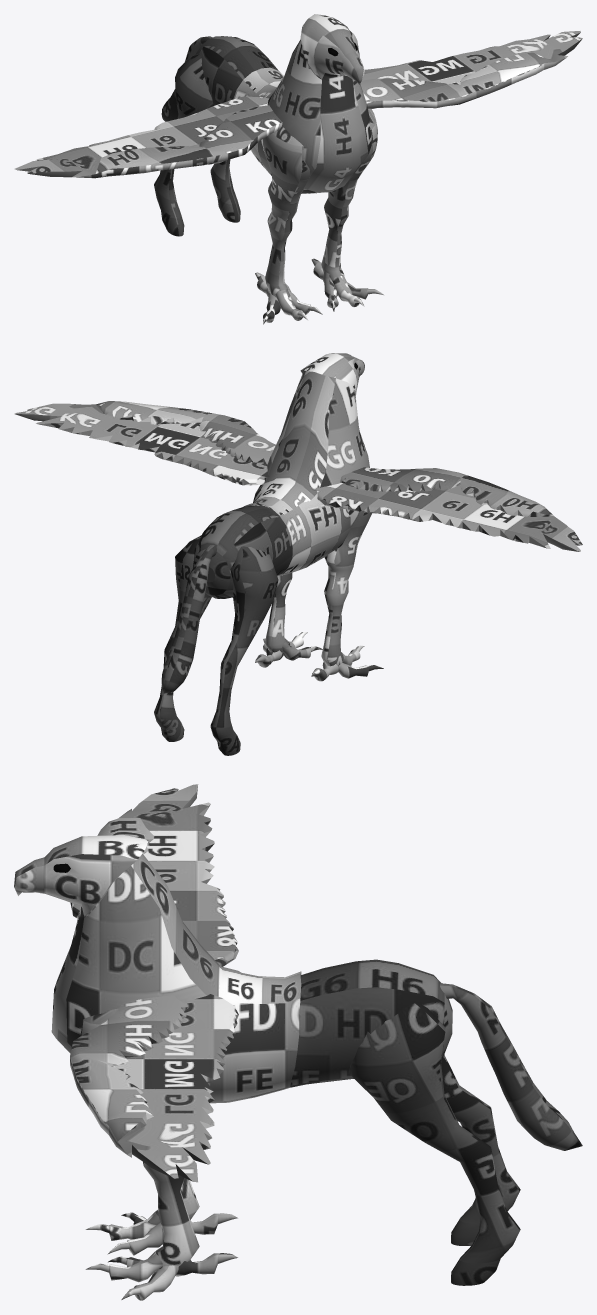
File: HippoGriffUV.fbx
3 views of the same model, one above another, from view 1: azimuth 30°, elevation 25°; view 2: azimuth 150°, elevation 25°; view 3: azimuth 270°, elevation 25° (orthographic). The views are drawn at different scales.
Visible parts, largest first — view 1: Body, L_Wing, R_Wing1, L_Front_Leg, L_Back_Leg, R_Front_Leg, R_Back_Leg, Tail, L_Talon02, R_Talon02; view 2: Body, L_Wing, R_Wing1, L_Back_Leg, Tail, L_Front_Leg, R_Back_Leg, R_Front_Leg; view 3: Body, R_Wing1, R_Back_Leg, L_Wing, Tail, L_Back_Leg, R_Front_Leg, R_Talon02, R_Talon03, L_Talon02, R_Talon04, L_Talon01.
Part boxes in pixels (<box>): Body: <box>195,14,371,193</box>; L_Wing: <box>14,96,282,178</box>; R_Wing1: <box>360,31,582,108</box>; L_Front_Leg: <box>261,126,309,297</box>; L_Back_Leg: <box>154,53,214,236</box>; R_Front_Leg: <box>321,108,377,279</box>; R_Back_Leg: <box>210,159,240,222</box>; Tail: <box>161,36,212,121</box>; L_Talon02: <box>275,289,307,320</box>; R_Talon02: <box>332,275,364,306</box>; Body: <box>193,353,369,598</box>; L_Wing: <box>316,467,582,551</box>; R_Wing1: <box>14,401,275,485</box>; L_Back_Leg: <box>210,546,278,755</box>; Tail: <box>161,545,216,693</box>; L_Front_Leg: <box>321,509,372,666</box>; R_Back_Leg: <box>154,535,211,741</box>; R_Front_Leg: <box>265,573,292,652</box>; Body: <box>14,834,452,1103</box>; R_Wing1: <box>70,994,238,1182</box>; R_Back_Leg: <box>348,1002,520,1285</box>; L_Wing: <box>70,784,238,966</box>; Tail: <box>440,983,582,1150</box>; L_Back_Leg: <box>441,1054,520,1245</box>; R_Front_Leg: <box>80,1008,199,1266</box>; R_Talon02: <box>85,1251,162,1282</box>; R_Talon03: <box>121,1265,178,1300</box>; L_Talon02: <box>85,1211,160,1240</box>; R_Talon04: <box>175,1253,237,1276</box>; L_Talon01: <box>107,1222,162,1255</box>.
Size of the model in its own units: 13.87 by 6.95 by 8.38.
Materials: 3 (2 with a texture image).
